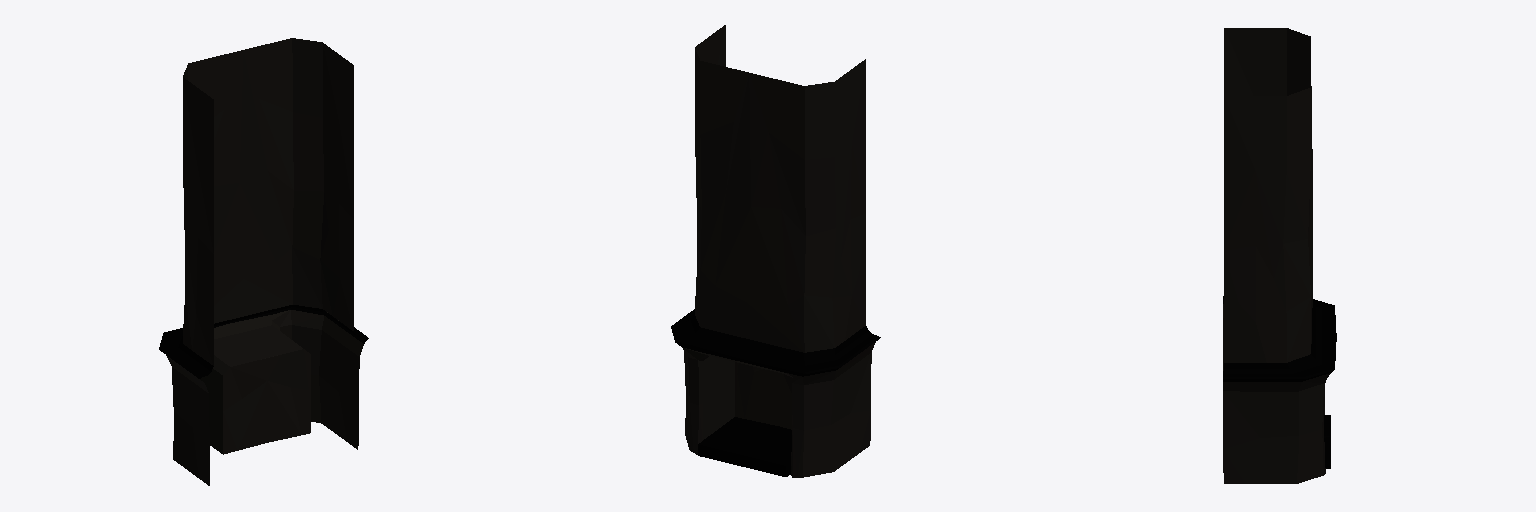
The model's file is Window.obj.
3 renders of one model, left to right at view 1: azimuth 30°, elevation 25°; view 2: azimuth 150°, elevation 25°; view 3: azimuth 270°, elevation 25°, orthographic.
Visible parts, largest first — view 1: Fireplace_Cube.001; view 2: Fireplace_Cube.001; view 3: Fireplace_Cube.001.
Part boxes in pixels (bbox=[...]): Fireplace_Cube.001: bbox=[159, 38, 368, 485]; Fireplace_Cube.001: bbox=[671, 25, 880, 477]; Fireplace_Cube.001: bbox=[1223, 28, 1336, 483].
Size of the model in its own units: 1.52 by 3.32 by 0.8787.